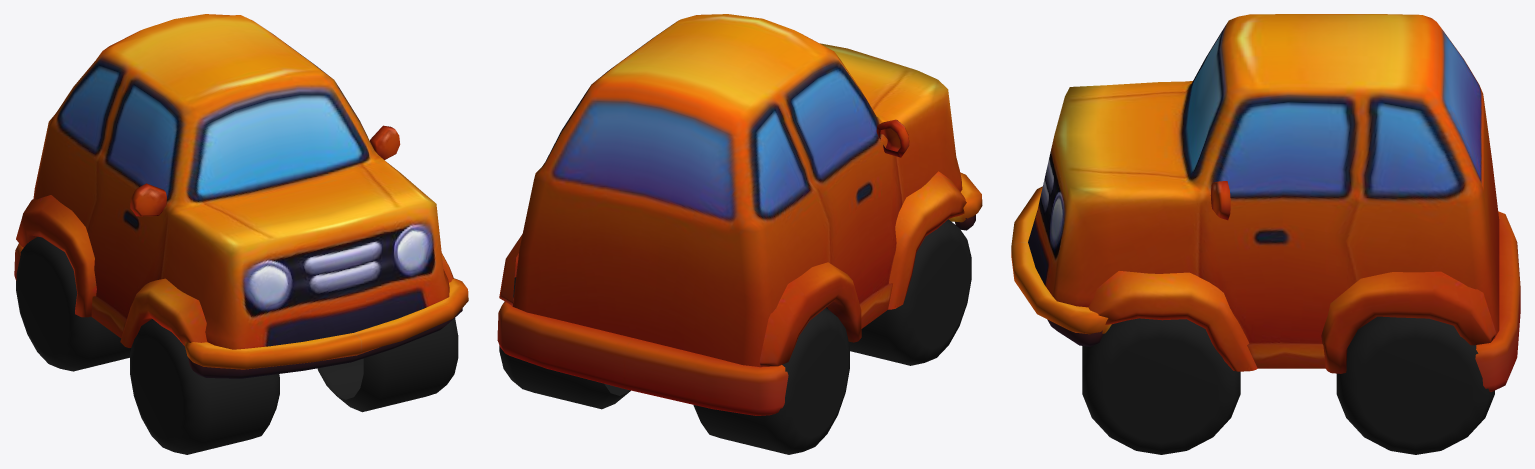
The model's file is Cam.fbx.
3 renders of one model, left to right at view 1: azimuth 30°, elevation 25°; view 2: azimuth 150°, elevation 25°; view 3: azimuth 270°, elevation 25°, orthographic. The views are drawn at different scales.
Visible parts, largest first — view 1: Cam, CamBanh; view 2: Cam, CamBanh; view 3: Cam, CamBanh.
Part boxes in pixels (x1,y1,x2,y2): Cam: (14,14,468,378); CamBanh: (16,236,458,454); Cam: (497,14,982,415); CamBanh: (499,219,971,454); Cam: (1011,14,1520,391); CamBanh: (1082,316,1494,454).
Bounding box in the file's own units: 1.78 × 2.53 × 1.93.
